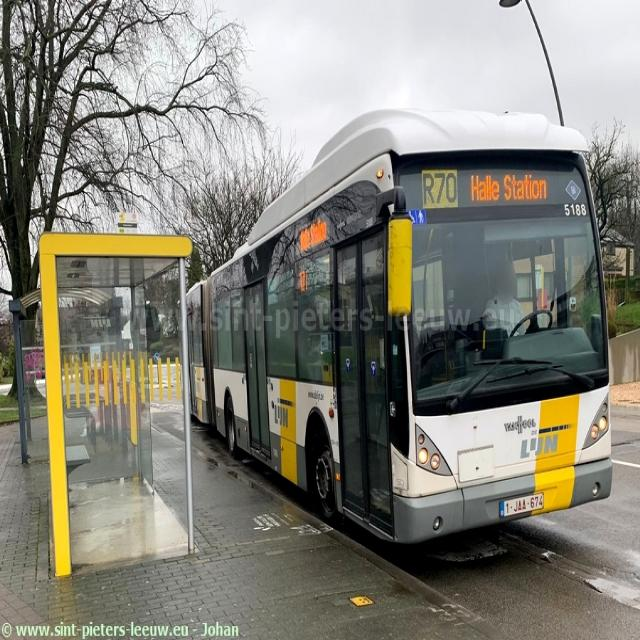bus-number: (422, 170, 458, 208)
